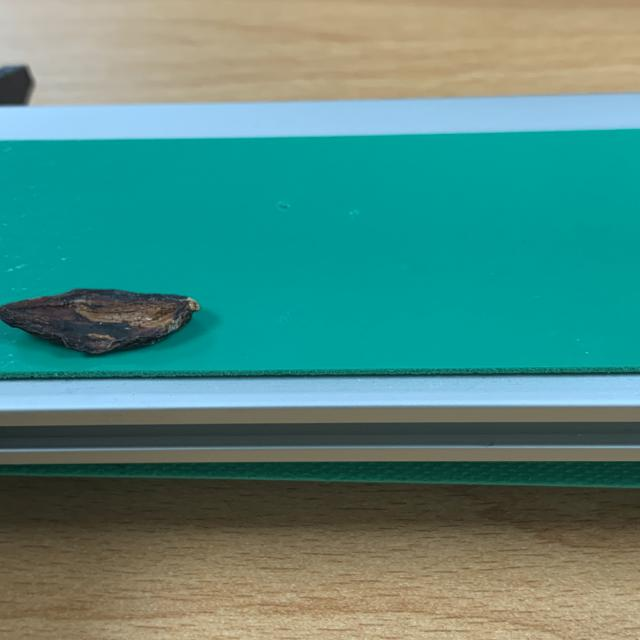Flat_cocoabeans: (0, 258, 261, 386)
